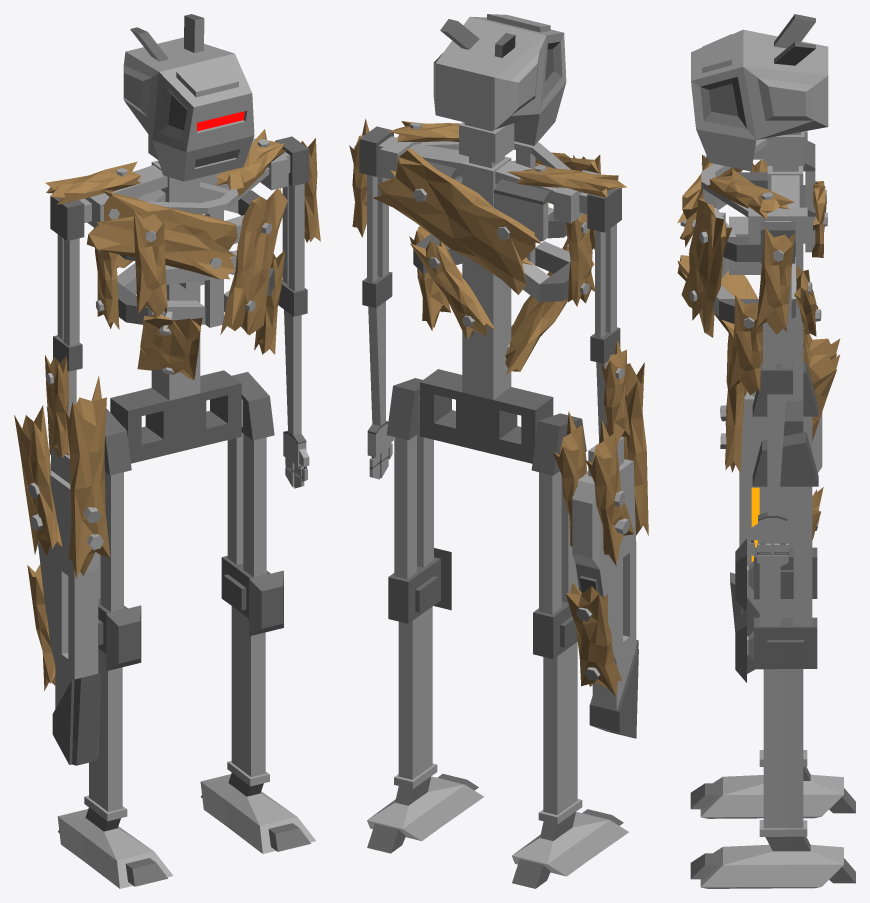
The model's file is GunRobot.fbx.
3 renders of one model, left to right at view 1: azimuth 30°, elevation 25°; view 2: azimuth 150°, elevation 25°; view 3: azimuth 270°, elevation 25°, orthographic.
Visible parts, largest first — view 1: LowerLegMesh (×2), SkeletonMesh, Head, Gun, UpperLegMesh (×2), UpperArmMesh (×2), Plank7, Splinter13, Plank1, LowerArmMesh (×2), Splinter15, Splinter12 (×2) (+7 smaller); view 2: LowerLegMesh (×2), SkeletonMesh, Head, UpperLegMesh (×2), Gun, Plank9, UpperArmMesh (×2), LowerArmMesh (×2), Splinter16, Splinter12 (×2), Splinter15, Splinter10 (+7 smaller); view 3: LowerLegMesh (×2), Head, SkeletonMesh, UpperLegMesh (×2), LowerArmMesh, Gun, Plank1, Splinter12, Splinter8, UpperArmMesh, Splinter6, Splinter13 (+6 smaller).
Part boxes in pixels (box(x1,y1,x2,y2)): LowerLegMesh (×2): box(57, 556, 315, 888); SkeletonMesh: box(79, 138, 290, 463); Head: box(123, 14, 254, 181); Gun: box(38, 448, 100, 765); UpperLegMesh (×2): box(98, 372, 274, 612); UpperArmMesh (×2): box(50, 136, 309, 346); Plank7: box(87, 190, 237, 279); Splinter13: box(65, 376, 110, 579); Plank1: box(220, 188, 287, 335); LowerArmMesh (×2): box(53, 280, 309, 488); Splinter15: box(14, 405, 62, 556); Splinter12 (×2): box(45, 138, 320, 458); LowerLegMesh (×2): box(367, 548, 628, 888); SkeletonMesh: box(378, 136, 600, 463); Head: box(433, 14, 566, 162); UpperLegMesh (×2): box(386, 378, 586, 614); Gun: box(572, 437, 638, 738); Plank9: box(373, 148, 541, 294); UpperArmMesh (×2): box(359, 126, 621, 338); LowerArmMesh (×2): box(362, 272, 620, 479); Splinter16: box(565, 582, 622, 696); Splinter12 (×2): box(349, 119, 630, 446); Splinter15: box(585, 419, 633, 565); Splinter10: box(410, 241, 495, 340); LowerLegMesh (×2): box(690, 538, 855, 888); Head: box(691, 14, 828, 171); SkeletonMesh: box(701, 131, 815, 435); UpperLegMesh (×2): box(752, 362, 818, 625); LowerArmMesh: box(749, 364, 792, 569); Gun: box(730, 391, 822, 673); Plank1: box(681, 198, 732, 337); Splinter12: box(756, 227, 794, 334); Splinter8: box(729, 295, 762, 395); UpperArmMesh: box(760, 222, 795, 369); Splinter6: box(706, 169, 794, 219); Splinter13: box(725, 333, 746, 472).
Size of the model in its own units: 2.03 by 5.74 by 1.15.
